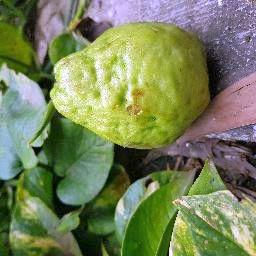guava: (42, 17, 214, 154)
